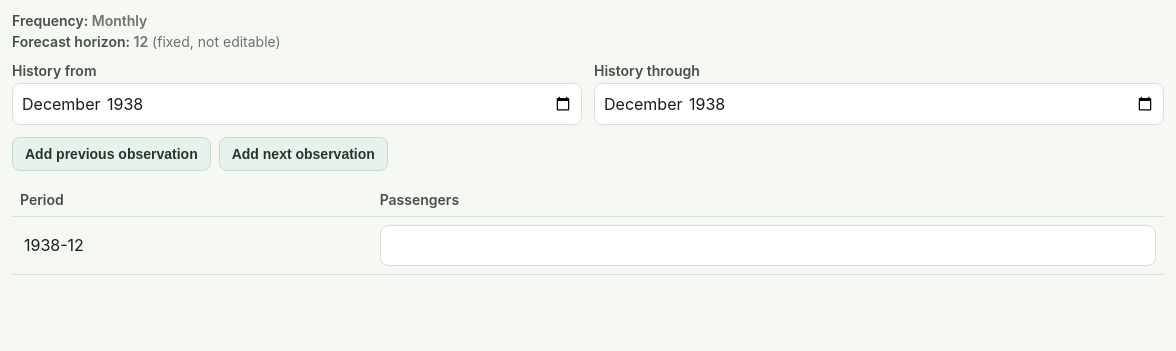
Scenario: HistorySeriesInput guided month-range builder (Project Spec S0268) › Add next observation moves the end forward exactly one calendar month, crossing a year boundary
Click the button "Add next observation": [303, 154] box [219,137,388,171]
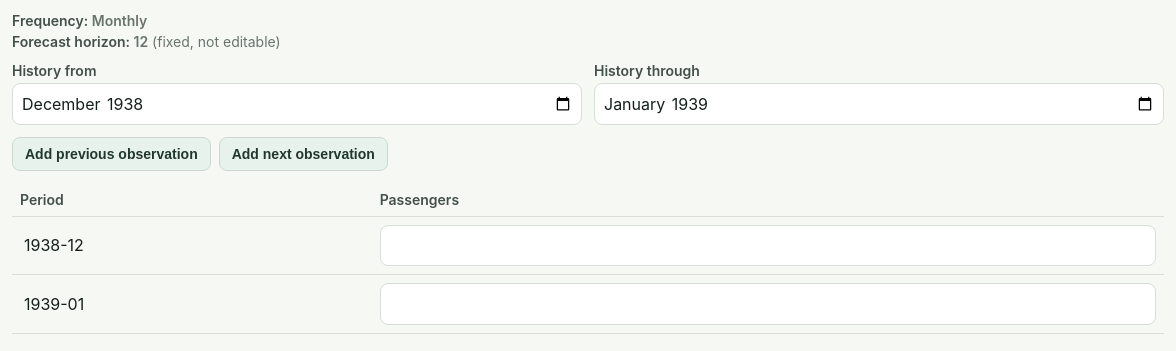
expect the field labelled "History through" holds "1939-01": met, box [594,83,1164,125]
expect the number of number fields named "Passengers" is 2: met, box [380,225,1156,266]; [380,283,1156,325]
